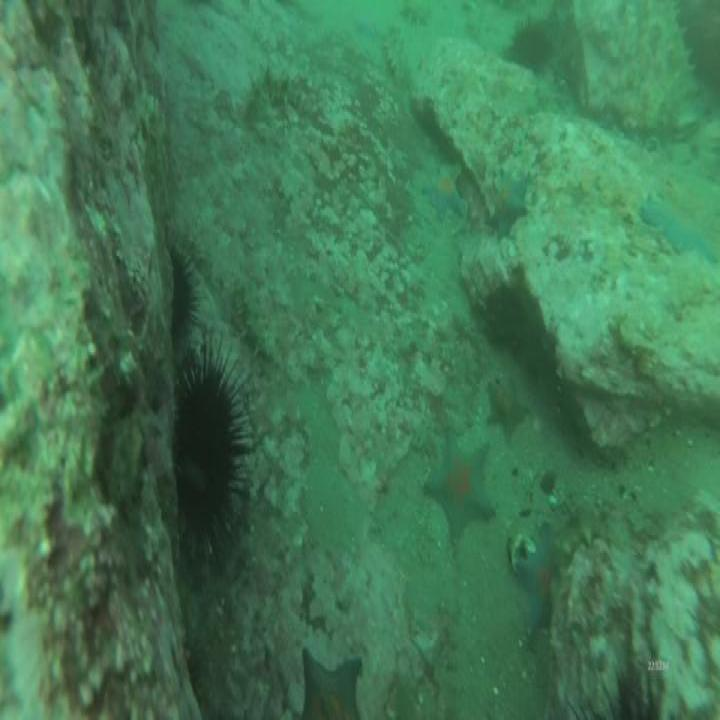echinus: (179, 357, 242, 530), (172, 236, 199, 336), (253, 70, 302, 109), (515, 20, 549, 70)
holothurian: (666, 4, 706, 103), (234, 274, 278, 361), (383, 28, 408, 82)
starfish: (426, 428, 491, 526), (642, 199, 715, 258), (298, 652, 363, 718), (519, 537, 553, 633), (489, 169, 529, 227), (426, 164, 466, 219), (489, 377, 524, 428)
